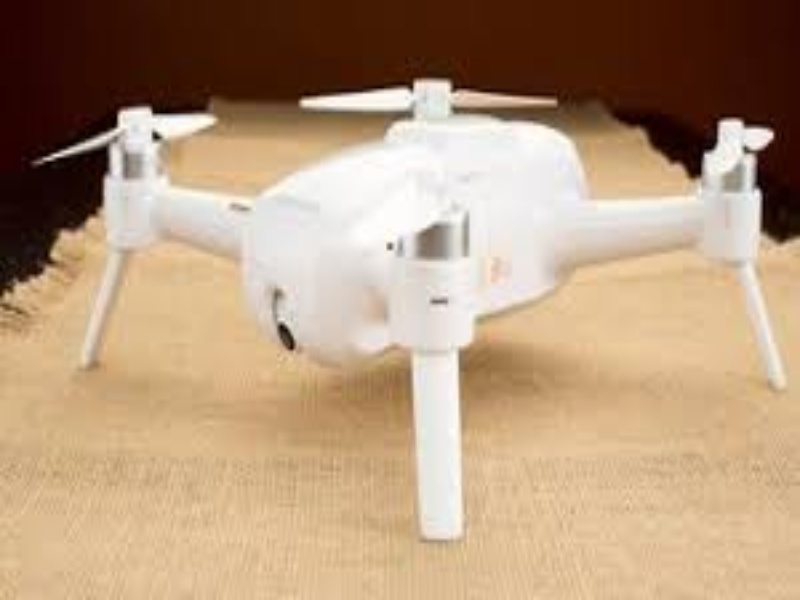drone: (49, 64, 785, 548)
